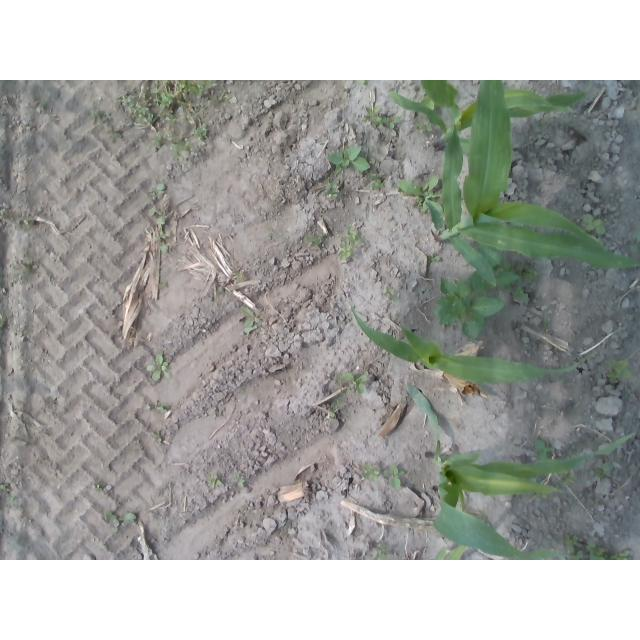Maize: (422, 80, 640, 285), (405, 376, 638, 561), (350, 305, 595, 387), (384, 80, 588, 154), (430, 520, 485, 560)
Weeds: (434, 264, 528, 341), (397, 175, 444, 218), (138, 80, 178, 124), (153, 128, 194, 161), (361, 106, 403, 138), (327, 144, 369, 174), (564, 532, 609, 560), (119, 95, 153, 125), (337, 225, 362, 259), (334, 370, 367, 394), (174, 81, 214, 100), (604, 357, 633, 383), (146, 353, 171, 381), (581, 211, 607, 236), (240, 306, 261, 334), (104, 509, 136, 527), (383, 465, 403, 490), (534, 439, 555, 461), (361, 462, 380, 483), (363, 172, 386, 189), (596, 462, 615, 482), (155, 230, 170, 254), (413, 119, 436, 134), (323, 181, 342, 199), (522, 264, 540, 283), (557, 469, 576, 487), (17, 215, 36, 231), (307, 232, 324, 249), (149, 208, 166, 225), (213, 93, 235, 106), (192, 124, 208, 141), (374, 544, 390, 561), (148, 183, 166, 198), (629, 229, 640, 253), (385, 286, 400, 303), (610, 549, 633, 560), (205, 475, 223, 488), (330, 398, 341, 418), (234, 472, 246, 488), (110, 131, 123, 144), (92, 110, 107, 120), (535, 489, 550, 499), (427, 252, 441, 262), (35, 101, 46, 112), (8, 495, 20, 505), (541, 319, 551, 330), (155, 405, 168, 413), (237, 272, 247, 280), (154, 434, 163, 442), (359, 80, 370, 86), (25, 260, 33, 268), (0, 313, 4, 327), (0, 483, 6, 489)
